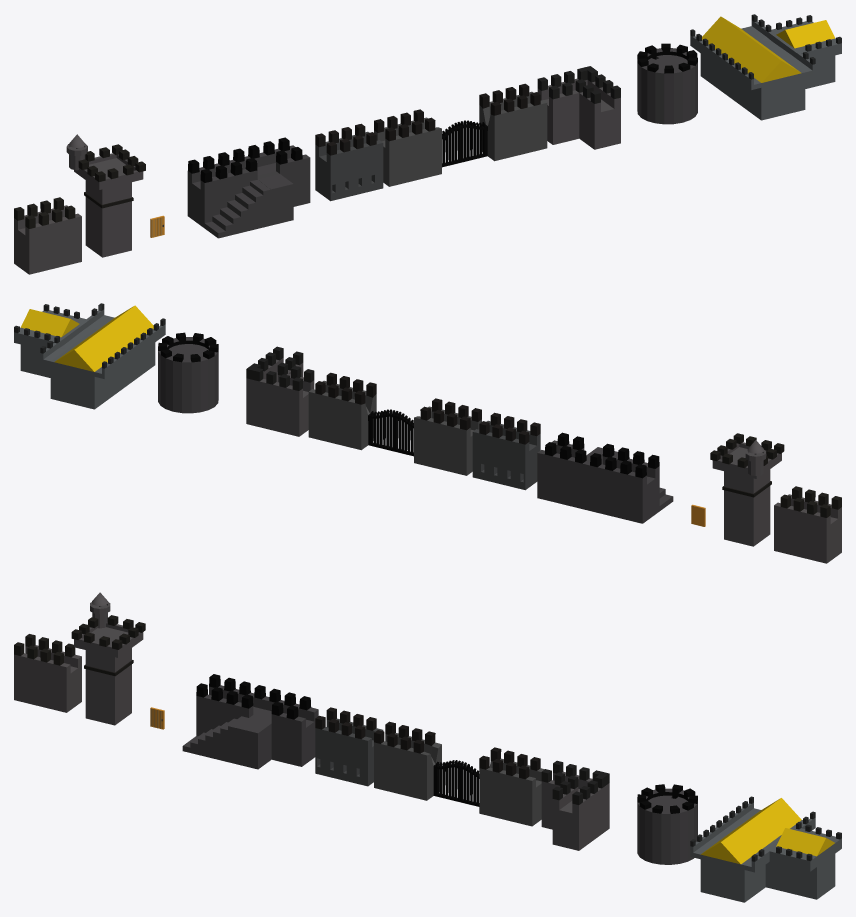
The model's file is blender kasteelSchiettoren.fbx.
3 renders of one model, top to bottom at view 1: azimuth 30°, elevation 25°; view 2: azimuth 150°, elevation 25°; view 3: azimuth 330°, elevation 25°, orthographic.
Visible parts, largest first — view 1: hoofd kasteel, poortmuur, muur met trap, uitkijktoren, hoekmuur, woontoren, schietmuur, muur; view 2: hoofd kasteel, poortmuur, muur met trap, uitkijktoren, hoekmuur, woontoren, muur, schietmuur; view 3: hoofd kasteel, poortmuur, muur met trap, uitkijktoren, hoekmuur, woontoren, muur, schietmuur.
Boxes of the visible parts, box(x1,y1,x2,y2) form: hoofd kasteel: box(690, 14, 841, 120); poortmuur: box(374, 83, 547, 186); muur met trap: box(187, 137, 310, 238); uitkijktoren: box(66, 134, 145, 257); hoekmuur: box(537, 66, 620, 149); woontoren: box(637, 43, 697, 124); schietmuur: box(315, 123, 383, 201); muur: box(14, 197, 81, 274); hoofd kasteel: box(14, 303, 165, 409); poortmuur: box(308, 372, 481, 475); muur met trap: box(537, 432, 673, 523); uitkijktoren: box(710, 433, 784, 546); hoekmuur: box(246, 346, 314, 436); woontoren: box(158, 332, 218, 413); muur: box(774, 486, 841, 563); schietmuur: box(472, 412, 540, 490); hoofd kasteel: box(690, 796, 841, 902); poortmuur: box(374, 721, 544, 826); muur met trap: box(182, 674, 318, 769); uitkijktoren: box(71, 592, 145, 725); hoekmuur: box(541, 760, 609, 850); woontoren: box(637, 784, 697, 864); muur: box(14, 634, 81, 712); schietmuur: box(315, 707, 383, 786).
Size of the model in its own units: 9155 by 1224 by 1200.
